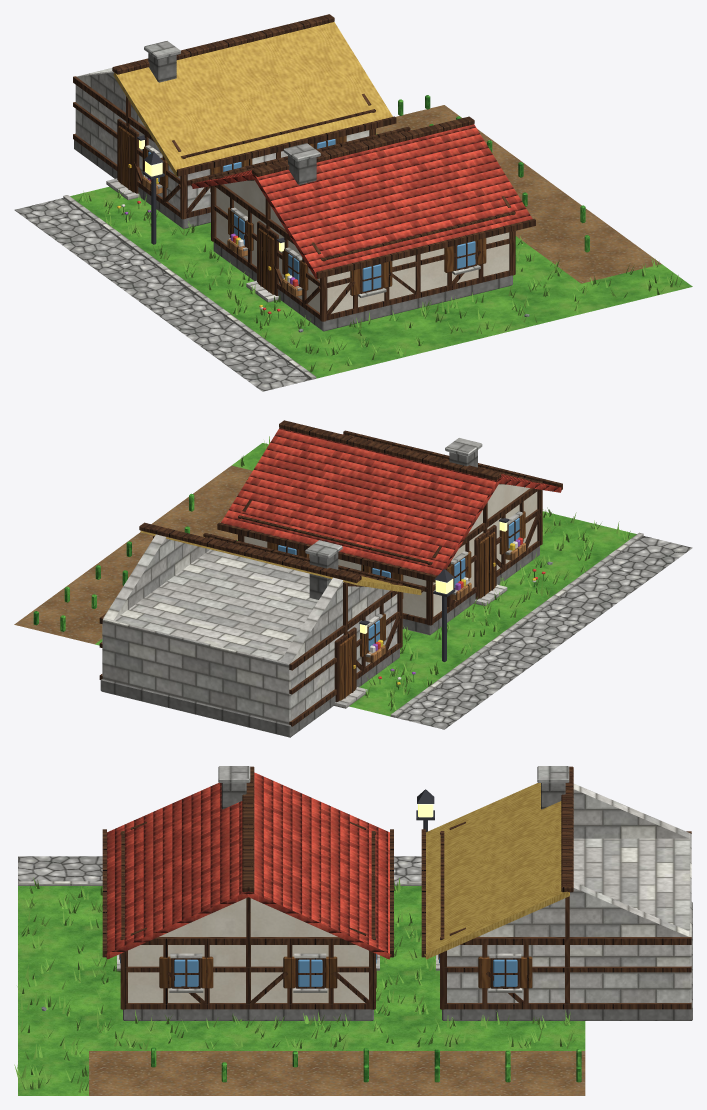
The model's file is chunk_6_13.glb.
3 renders of one model, top to bottom at view 1: azimuth 30°, elevation 25°; view 2: azimuth 150°, elevation 25°; view 3: azimuth 270°, elevation 25°, orthographic. The views are drawn at different scales.
Parts seen in each view (by area): view 1: chunk_6_13; view 2: chunk_6_13; view 3: chunk_6_13.
Part boxes in pixels (box(x1,y1,x2,y2)): chunk_6_13: box(14, 14, 692, 391); chunk_6_13: box(14, 420, 692, 737); chunk_6_13: box(14, 766, 692, 1095).
Bounding box in the file's own units: 16 × 4.99 × 19.15.
Materials: 24 (15 with a texture image).
